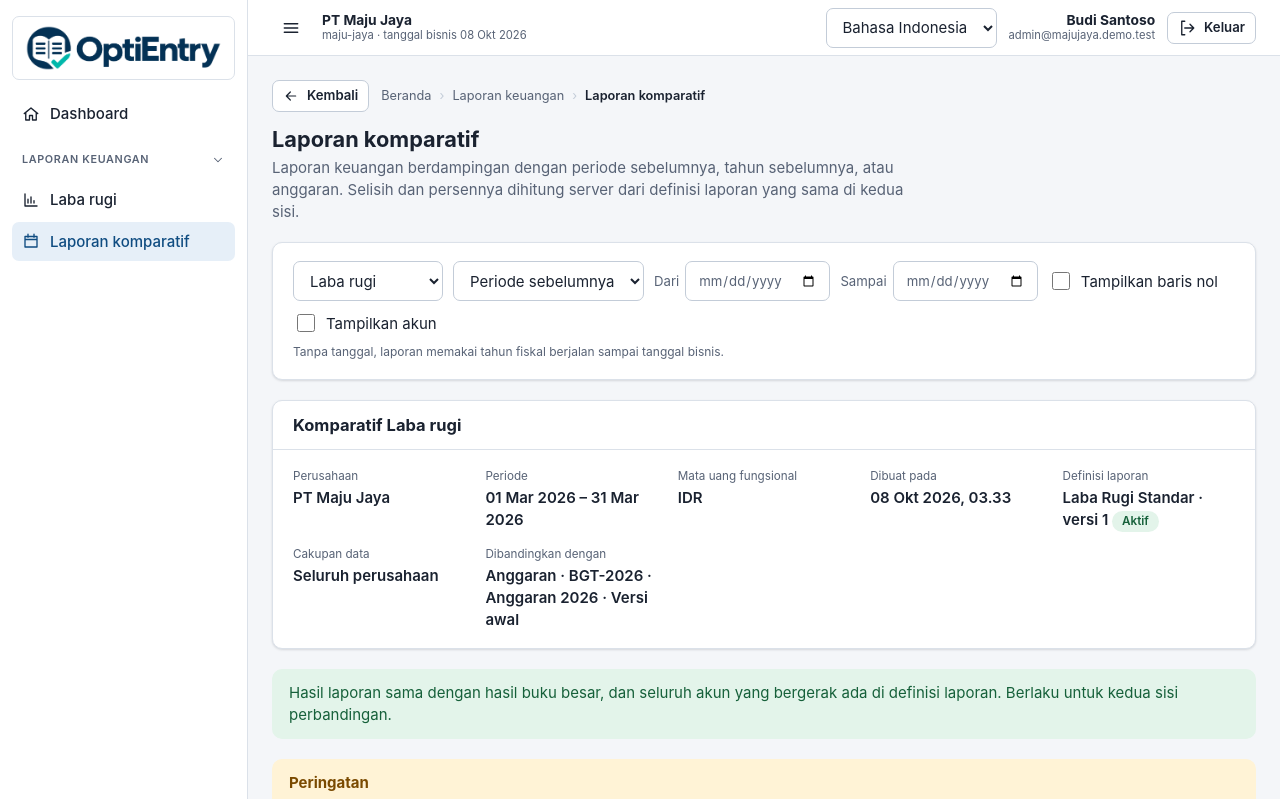
Test: comparative report › asks for nothing until a budget is chosen, then compares with it and lists the budget that could not be placed
Select "Anggaran" in the dropdown named "Pembanding" at (548, 281), box [453, 261, 644, 301]
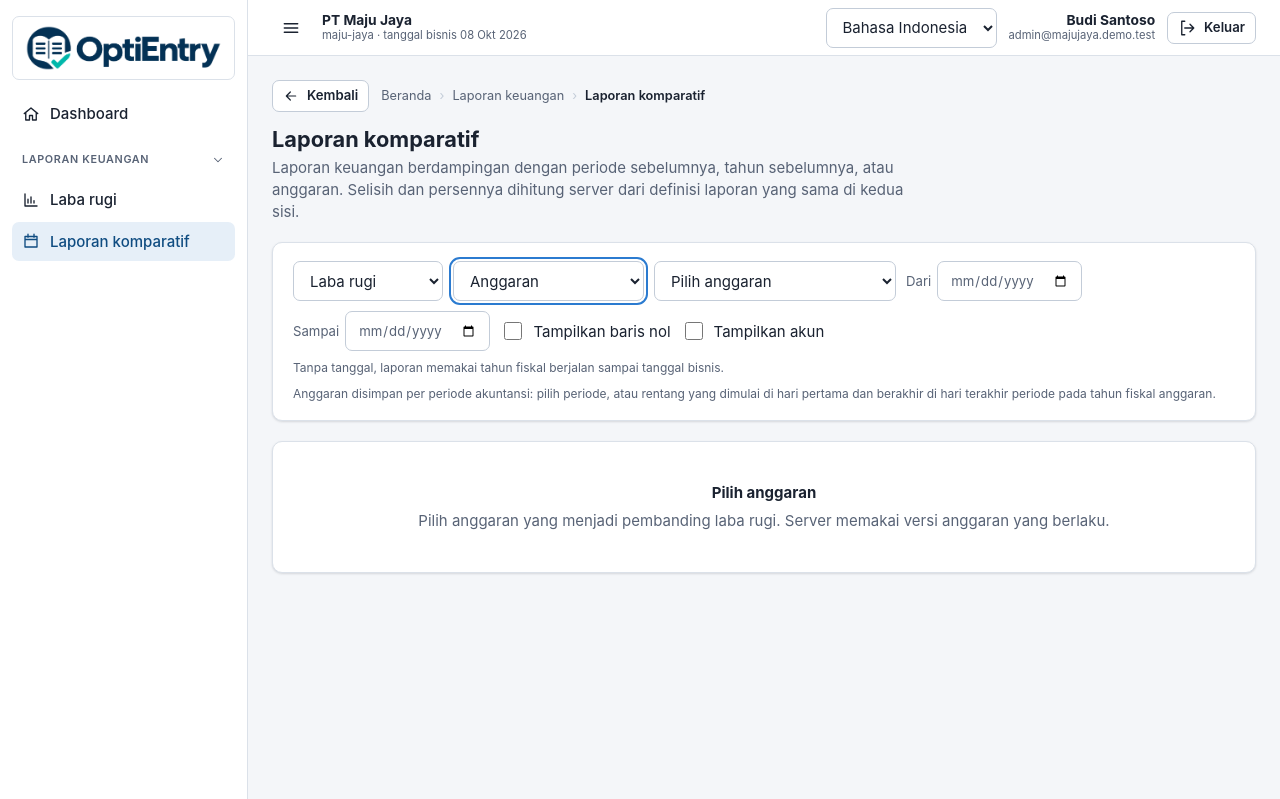
Expected: the text "Pilih anggaran" is shown, [712, 482, 816, 504]
Expected: the text "Anggaran disimpan per periode akuntansi" is shown, [293, 386, 1216, 401]
Select "BGT-2026 · Anggaran 2026" in the dropdown named "Anggaran" at (775, 281), box [654, 261, 896, 301]
(page scrolled)
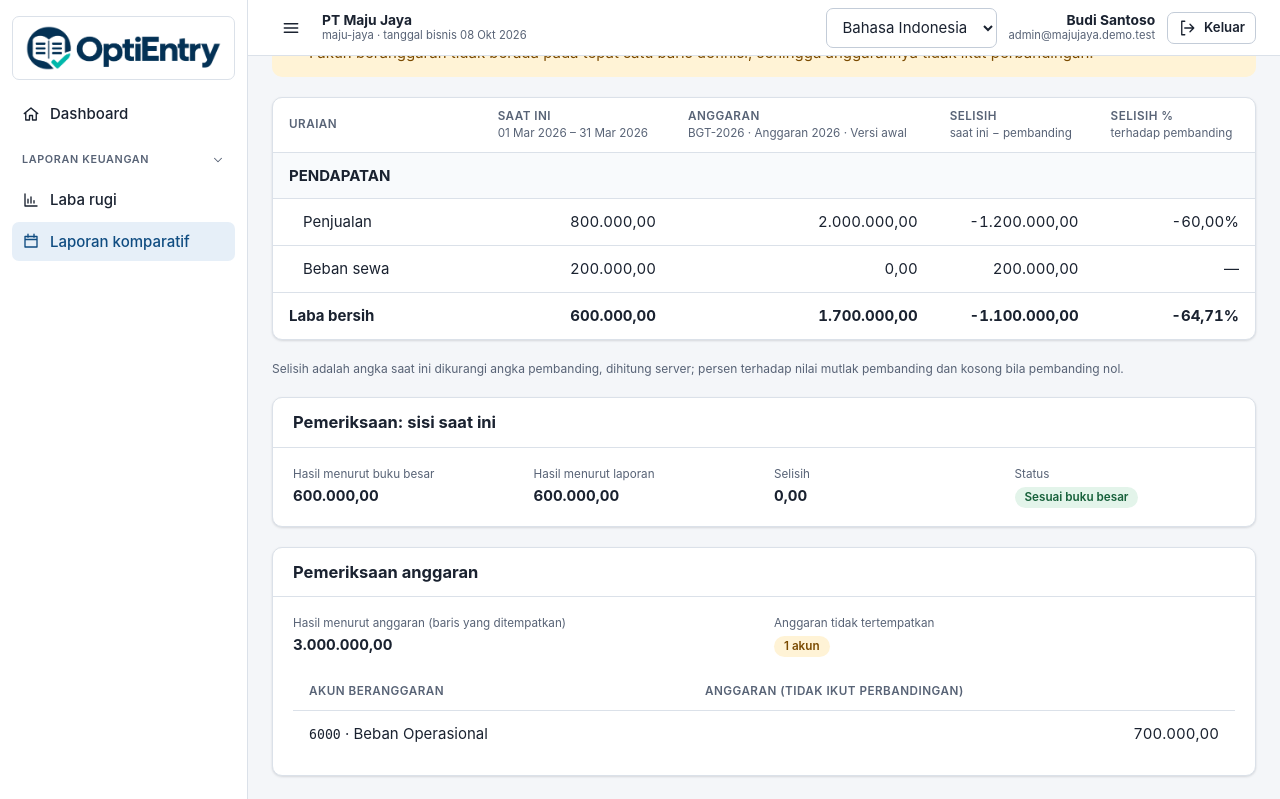
Expected: the column heading "Anggaran BGT-2026 · Anggaran 2026 · Versi awal" is shown, [672, 98, 934, 152]
Expected: the list item "1 akun beranggaran tidak berada pada tepat satu baris definisi" is shown, [307, 43, 1094, 62]
Expected: the text "Beban Operasional" is shown, [354, 724, 488, 743]
